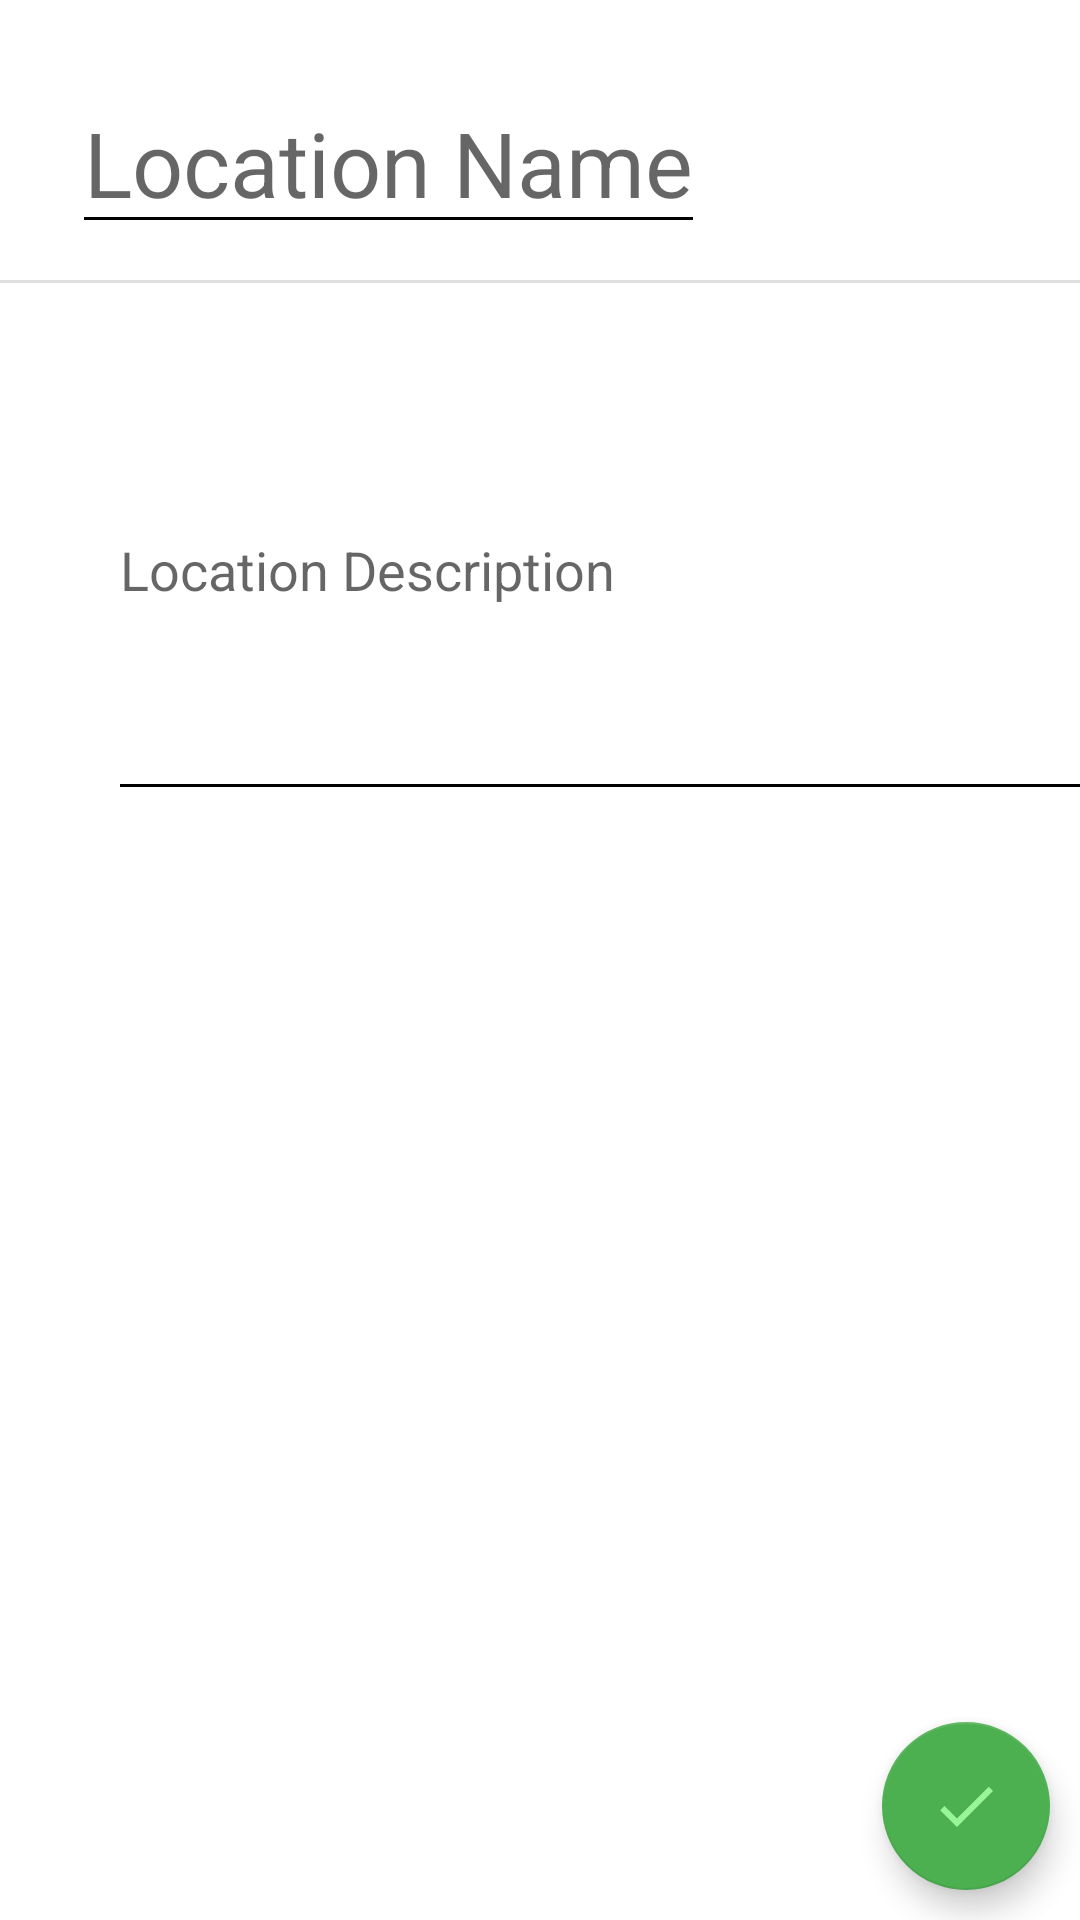

Named icons in this screenshot (1080 × 1920) and their centers, [x,y]:
check: [966,1806]
